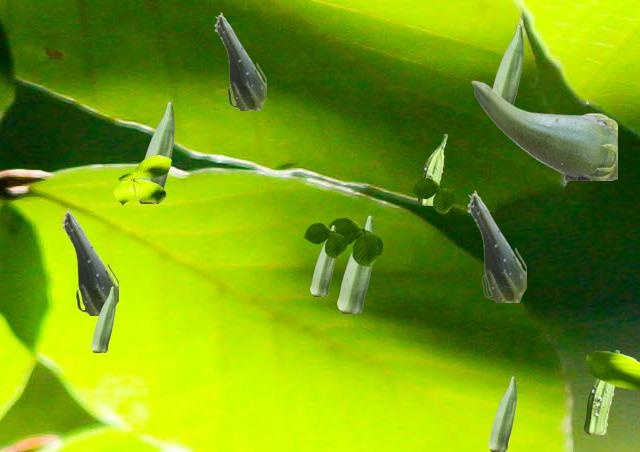okra: (471, 80, 616, 179), (467, 190, 525, 301), (61, 208, 117, 314), (214, 12, 265, 109), (136, 101, 173, 202), (337, 215, 373, 312), (584, 350, 618, 433), (492, 24, 522, 104), (488, 376, 515, 450), (418, 134, 446, 204), (310, 225, 335, 295), (91, 286, 114, 351)
